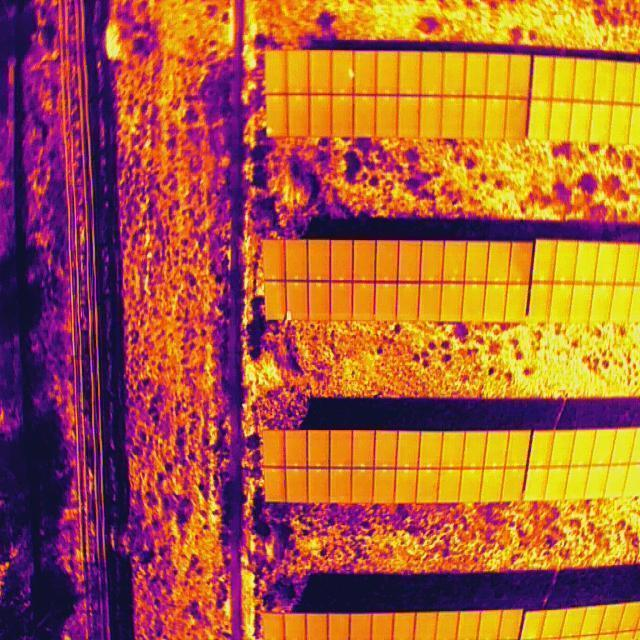hotspot: (347, 68, 355, 81)
